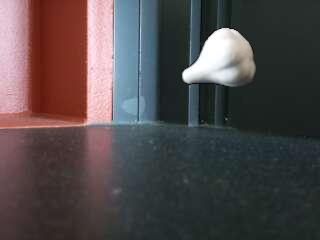Garlic: (181, 27, 257, 88)
